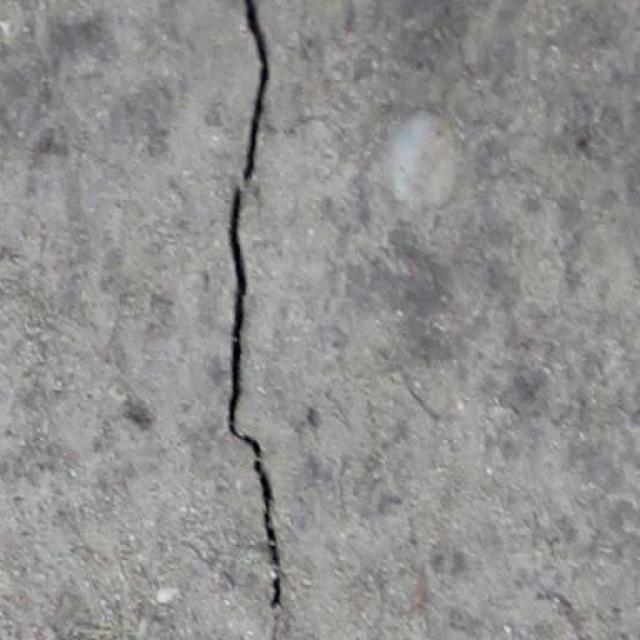crack: (221, 0, 289, 639), (234, 0, 271, 190)
